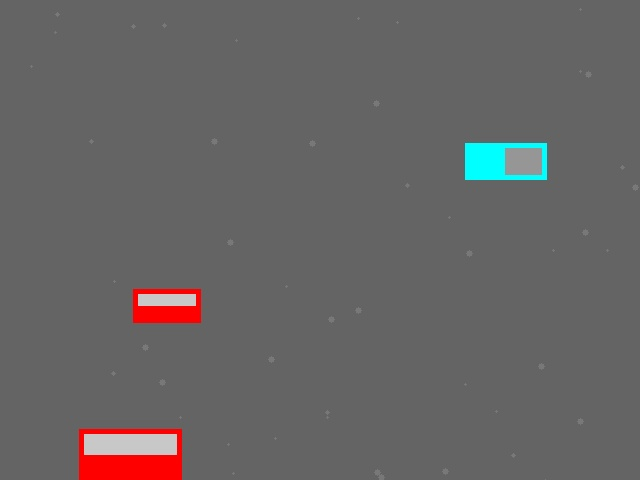car: (79, 429, 181, 480), (133, 289, 200, 322)
truck: (465, 143, 546, 179)
